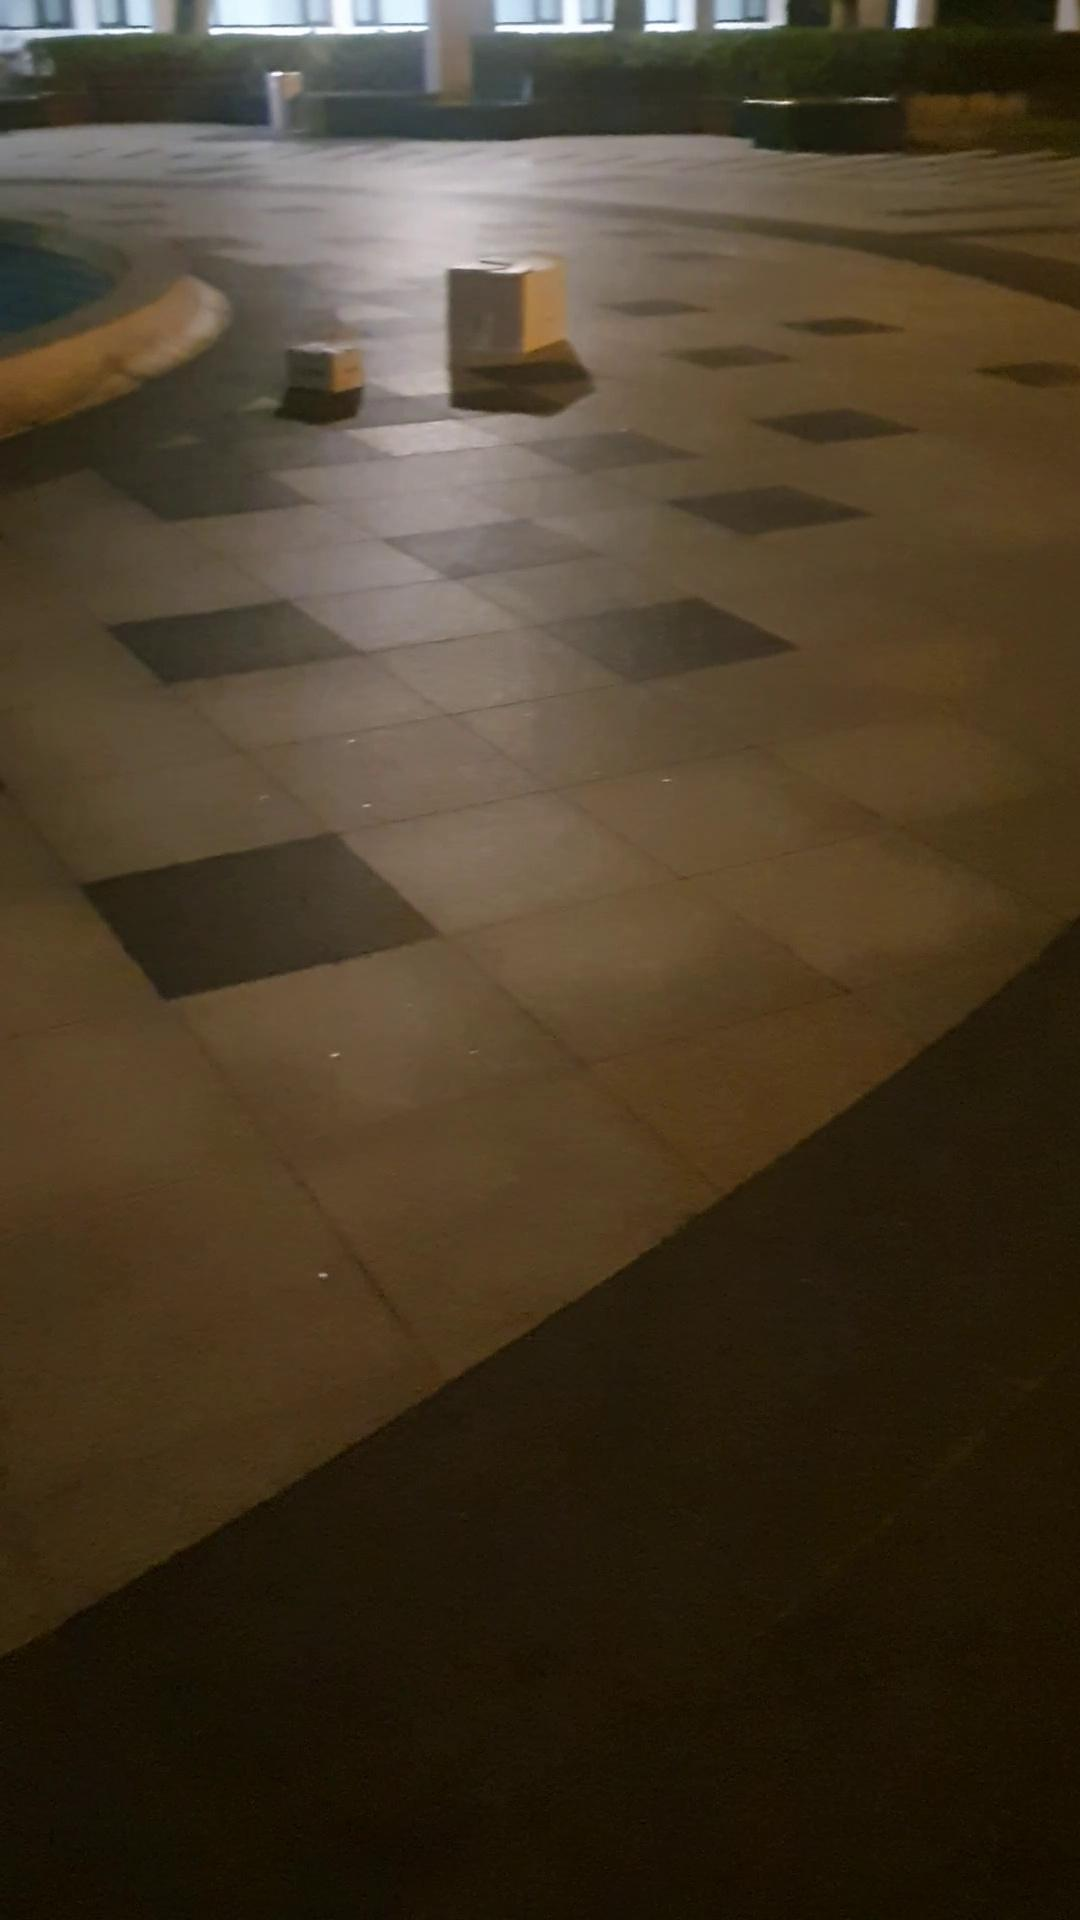Box: (438, 251, 567, 372), (278, 334, 367, 405)
